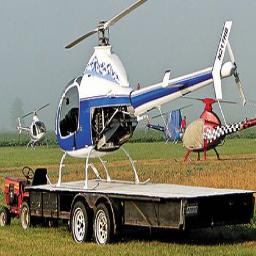helicopter: (54, 2, 247, 189), (184, 98, 256, 160), (18, 102, 51, 156)
